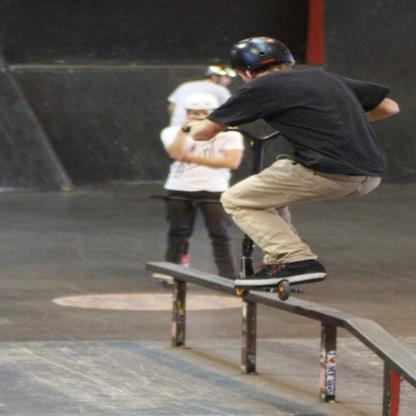Helmet: (223, 36, 300, 74), (203, 63, 234, 84)
